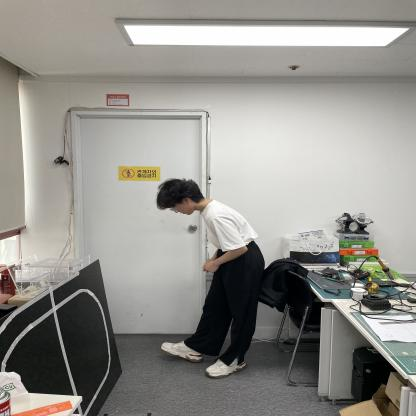normal: (157, 171, 265, 380)
